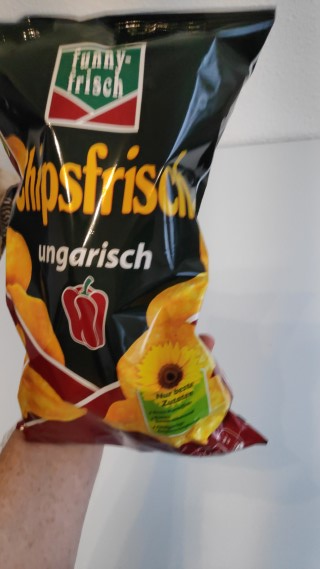chipsfrisch: (1, 7, 278, 457)
